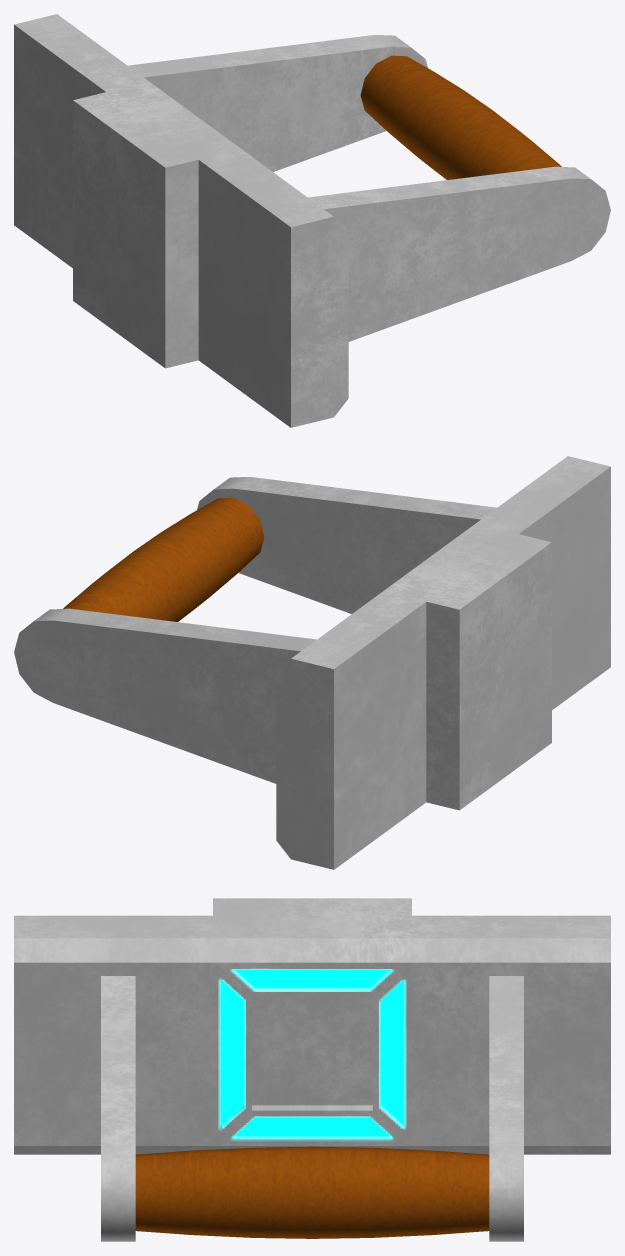
File: switchHandle - Texture.gltf
3 renders of one model, top to bottom at view 1: azimuth 30°, elevation 25°; view 2: azimuth 150°, elevation 25°; view 3: azimuth 270°, elevation 25°, orthographic. The views are drawn at different scales.
Visible parts, largest first — view 1: Cube.001; view 2: Cube.001; view 3: Cube.001.
Part boxes in pixels (left/top/right/bottom): Cube.001: left=14, top=14, right=610, bottom=427; Cube.001: left=14, top=456, right=610, bottom=869; Cube.001: left=14, top=898, right=610, bottom=1241.
Size of the model in its own units: 1.18 by 0.577 by 1.44.
1 material, 1 textured.
